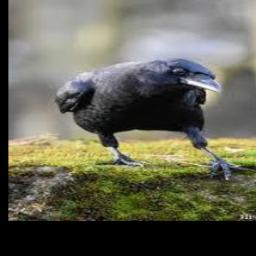Crow: (54, 59, 250, 180)
